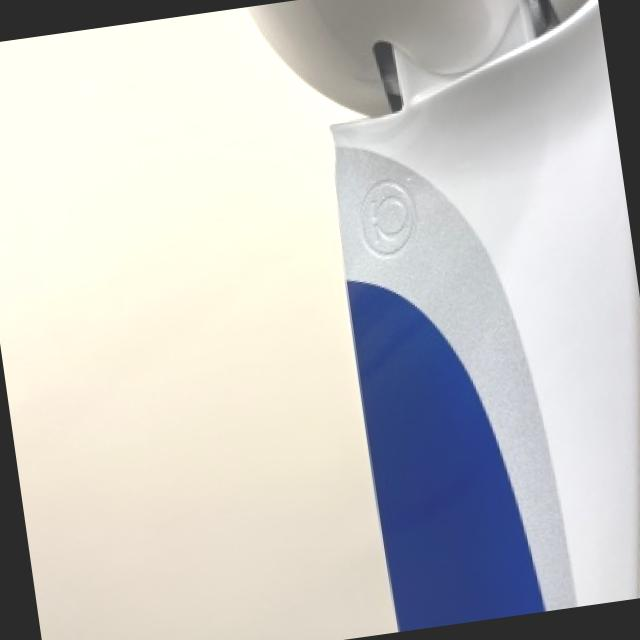healthy: (252, 0, 640, 629)
